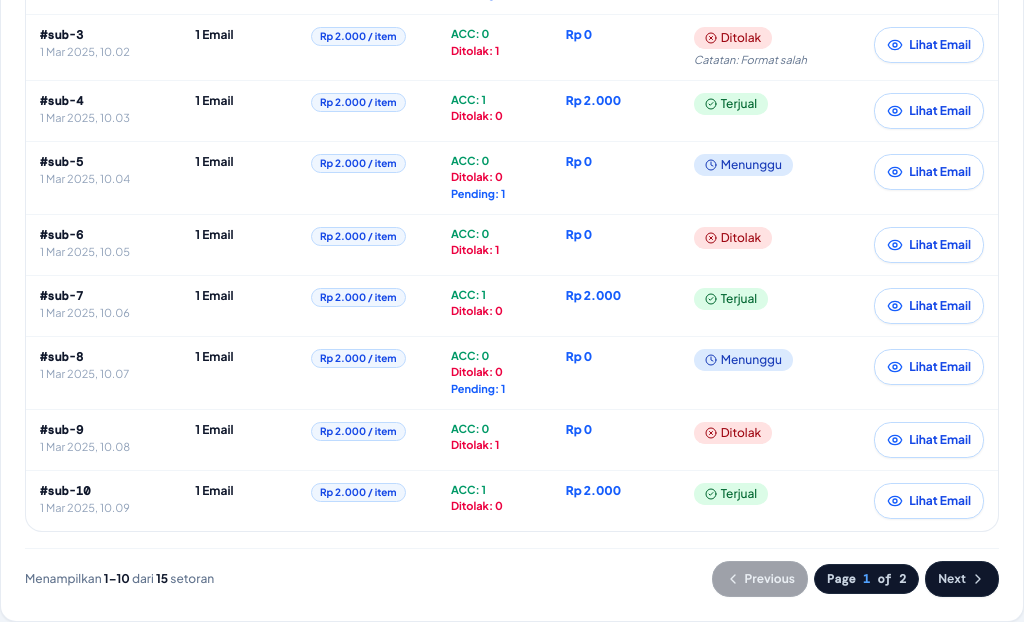
Test case: SubmissionHistory Component › navigates pages using Next and Previous buttons
(page scrolled)
Expected: the element with test id "pagination-page-indicator" reads "Page 1 of 2", x1=814 y1=564 x2=919 y2=594
Click the button "Next".
click(962, 579)  # box x1=925 y1=561 x2=999 y2=597
(page scrolled)
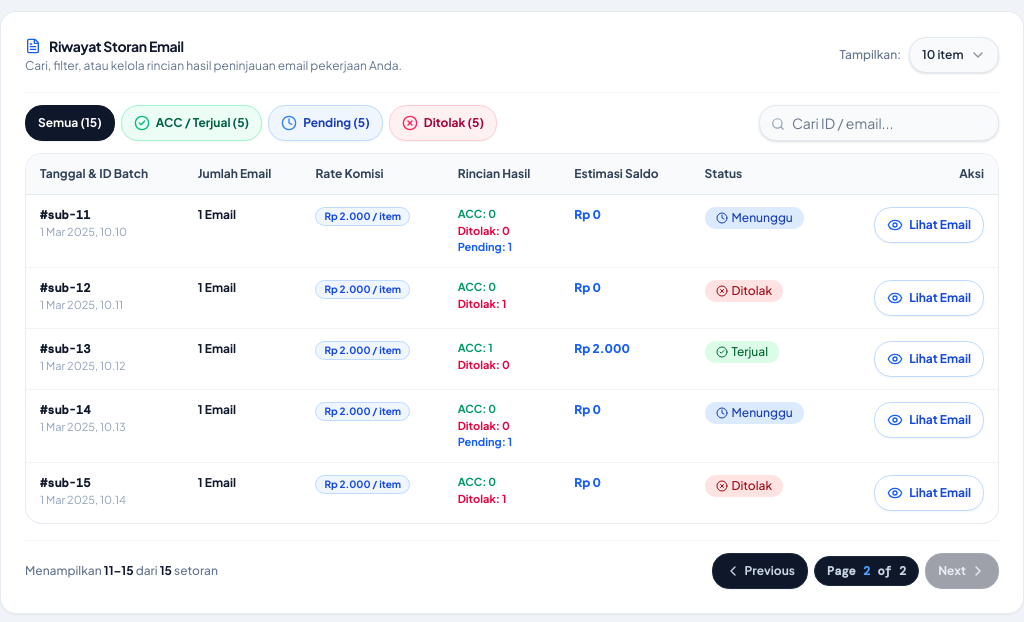
Result: the element with test id "pagination-page-indicator" reads "Page 2 of 2" at x1=814 y1=556 x2=919 y2=586
Click the button "Previous".
click(760, 571)  # box x1=712 y1=553 x2=808 y2=589
(page scrolled)
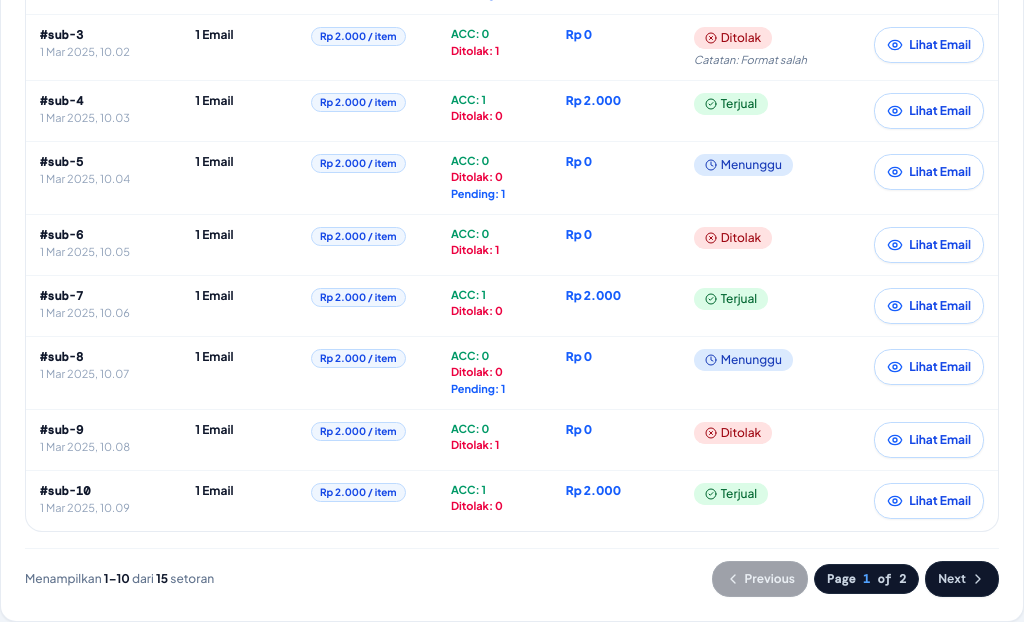
Result: the element with test id "pagination-page-indicator" reads "Page 1 of 2" at x1=814 y1=564 x2=919 y2=594
